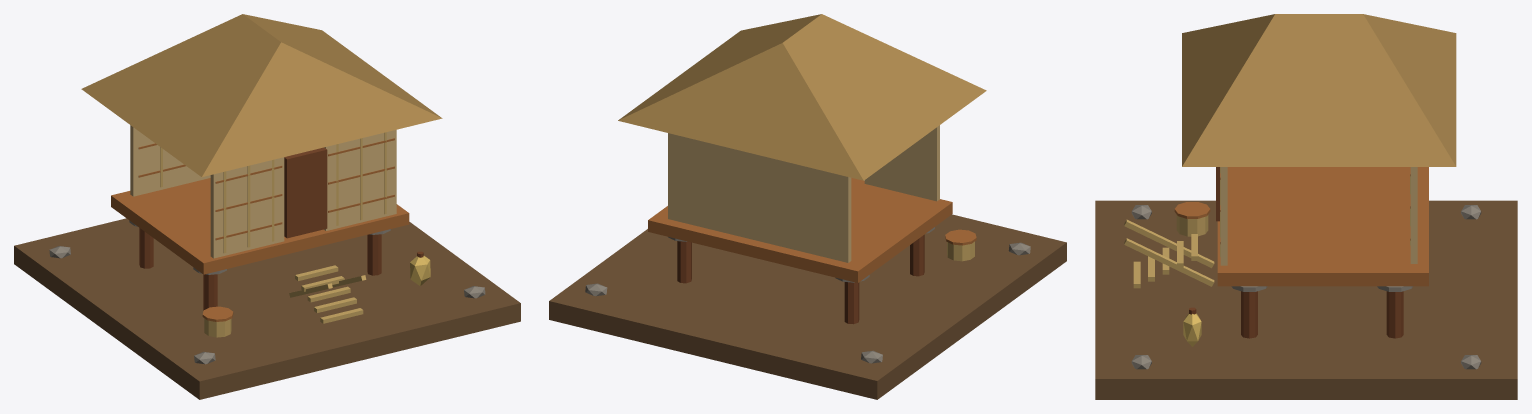
File: rice_barn.glb
3 views of the same model, side by side, from view 1: azimuth 30°, elevation 25°; view 2: azimuth 150°, elevation 25°; view 3: azimuth 270°, elevation 25° (orthographic). The views are drawn at different scales.
Visible parts, largest first — view 1: Building_Base, BarnRoof, BarnDeck, BarnFrontLPanel, BarnFrontRPanel, BarnDoor, BarnRearPanel, BarnStilt.002, BarnStilt.001, RiceSack, BarnStilt, RiceBasket; view 2: Building_Base, BarnRoof, BarnRearPanel, BarnDeck, BarnFrontLPanel, BarnStilt.001, BarnStilt.003, BarnStilt, RiceBasket; view 3: Building_Base, BarnRoof, BarnDeck, BarnStilt.003, BarnFrontRPanel, BarnStilt.002, BarnRearPanel, LadderRail.001, LadderRail, RiceBasket, RiceBasketRim, RiceSack.
Part boxes in pixels (<box>): Building_Base: <box>14,218,520,399</box>; BarnRoof: <box>81,14,442,176</box>; BarnDeck: <box>111,178,409,274</box>; BarnFrontLPanel: <box>210,157,284,258</box>; BarnFrontRPanel: <box>324,130,396,230</box>; BarnDoor: <box>284,147,327,238</box>; BarnRearPanel: <box>130,125,210,196</box>; BarnStilt.002: <box>367,234,381,275</box>; BarnStilt.001: <box>139,228,153,268</box>; RiceSack: <box>410,256,430,285</box>; BarnStilt: <box>203,274,217,310</box>; RiceBasket: <box>204,318,231,337</box>; Building_Base: <box>549,214,1066,399</box>; BarnRoof: <box>618,14,986,180</box>; BarnRearPanel: <box>668,133,851,262</box>; BarnDeck: <box>648,178,952,282</box>; BarnFrontLPanel: <box>864,125,939,201</box>; BarnStilt.001: <box>844,282,859,324</box>; BarnStilt.003: <box>677,241,691,283</box>; BarnStilt: <box>910,234,924,276</box>; RiceBasket: <box>947,241,974,261</box>; Building_Base: <box>1095,200,1517,399</box>; BarnRoof: <box>1182,14,1456,166</box>; BarnDeck: <box>1217,167,1428,286</box>; BarnStilt.003: <box>1386,291,1403,338</box>; BarnFrontRPanel: <box>1220,167,1227,265</box>; BarnStilt.002: <box>1241,291,1257,338</box>; BarnRearPanel: <box>1410,167,1417,263</box>; LadderRail.001: <box>1124,238,1214,286</box>; LadderRail: <box>1124,219,1214,268</box>; RiceBasket: <box>1176,215,1208,236</box>; RiceBasketRim: <box>1174,202,1210,218</box>; RiceSack: <box>1183,313,1201,346</box>.
Bounding box in the file's own units: 10 × 7.75 × 10.
